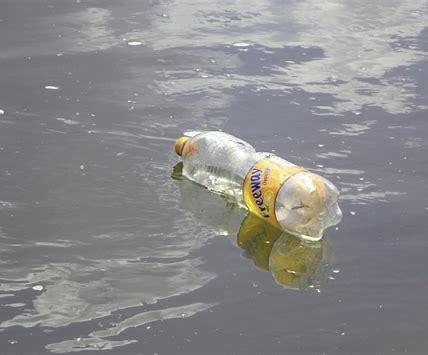Plastic: (174, 131, 346, 242)
